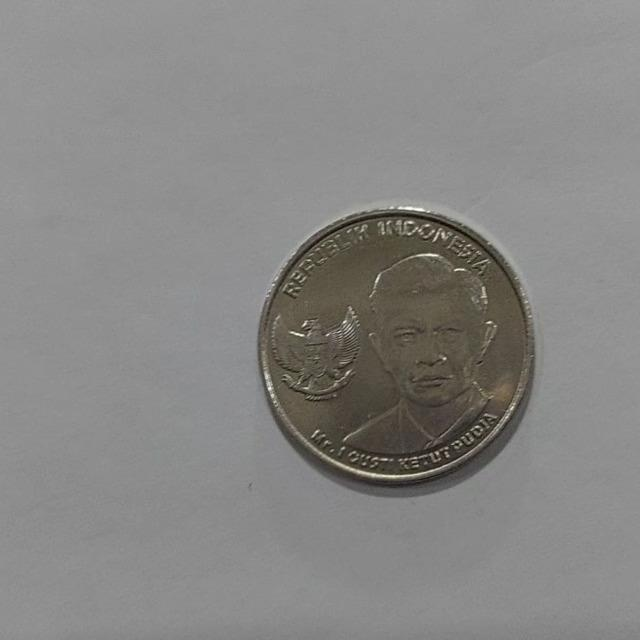Rp100: (257, 204, 536, 487)
